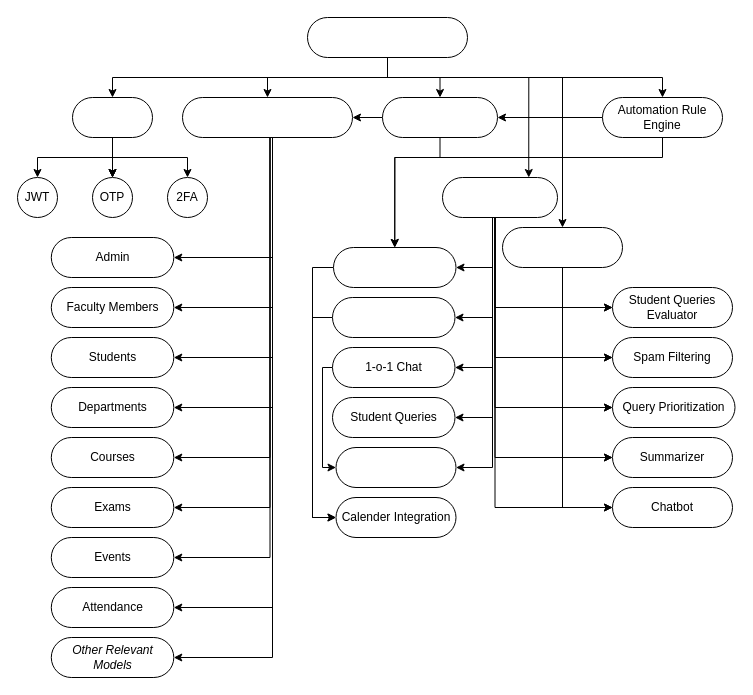
Image size: 753x695. Some labels were removed from this diagram. Here are the shapes that lost their labels. From the top down, the centre of each, then its label:
pixel 387 37: Smart Academic Communication Platgorm
pixel 112 117: Auth
pixel 267 117: Academic Data Module
pixel 440 117: Template
pixel 500 197: Message
pixel 394 267: Campaign
pixel 562 247: AI/ML
pixel 393 317: Notifications
pixel 395 467: File Sharing
